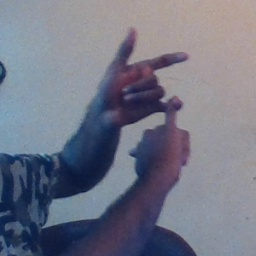S: (90, 21, 222, 185)
